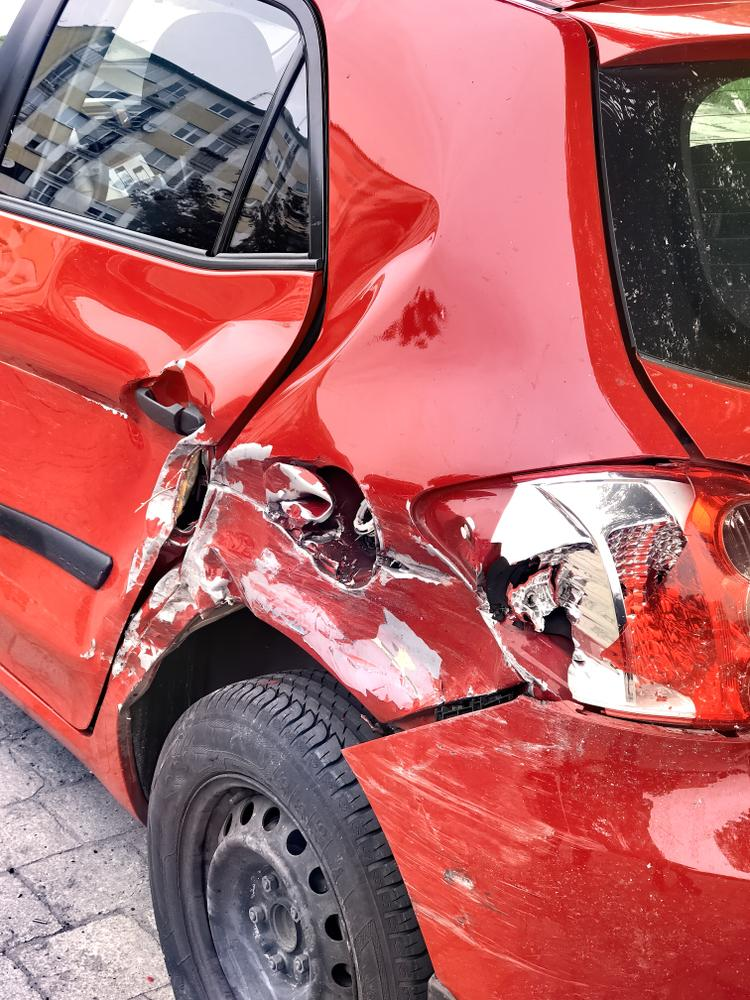dent: (207, 488, 510, 717), (293, 127, 439, 385), (50, 240, 311, 376)
lamp broken: (435, 461, 750, 732)
scratch: (340, 707, 575, 965), (113, 533, 243, 679), (127, 426, 210, 582)
